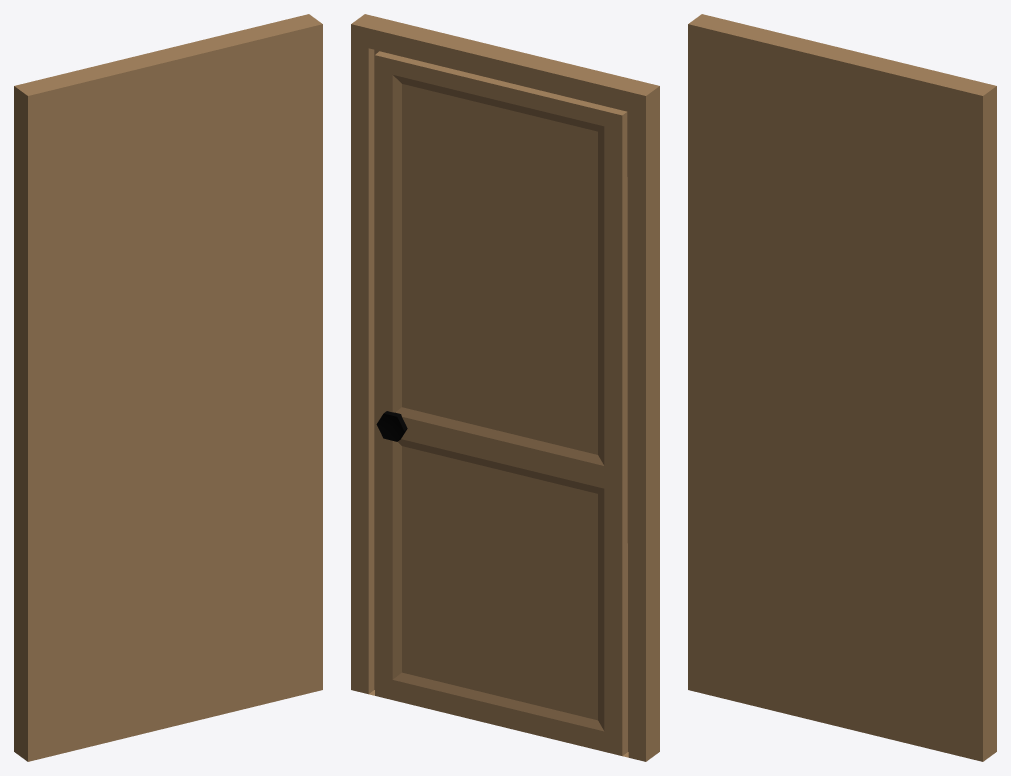
File: wooddoor.fbx
The picture shows the model from 3 angles, left to right: view 1: azimuth 30°, elevation 25°; view 2: azimuth 150°, elevation 25°; view 3: azimuth 330°, elevation 25°; orthographic projection.
Visible parts, largest first — view 1: polySurface28; view 2: polySurface28; view 3: polySurface28.
Part boxes in pixels (x1,y1,x2,y2): polySurface28: [14, 14, 322, 761]; polySurface28: [351, 14, 659, 761]; polySurface28: [688, 14, 996, 761].
Size of the model in its own units: 100 by 216 by 10.15.
